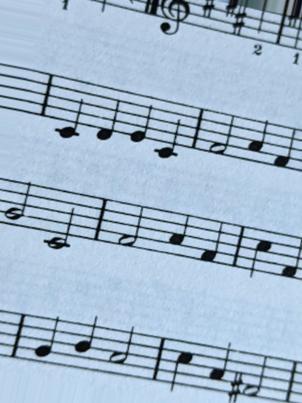A: (244, 111, 271, 169), (206, 338, 232, 398), (168, 208, 190, 266)
B: (70, 317, 101, 375)
D: (95, 80, 121, 145)
E: (127, 86, 152, 146)
F: (200, 213, 226, 271), (272, 121, 297, 177), (280, 230, 301, 290)
G: (34, 313, 60, 371)
HC: (168, 335, 193, 395), (248, 223, 272, 282)
LC: (53, 70, 86, 145), (153, 94, 185, 161)
